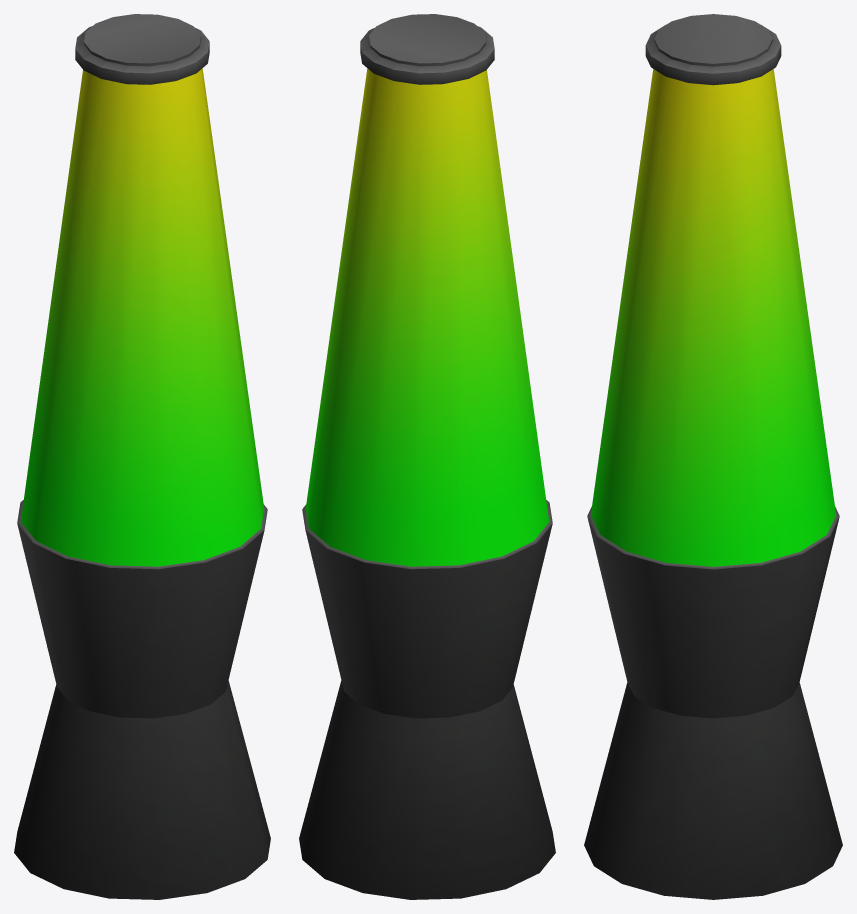
File: lava lamp.FBX
The picture shows the model from 3 angles, left to right: view 1: azimuth 30°, elevation 25°; view 2: azimuth 150°, elevation 25°; view 3: azimuth 270°, elevation 25°; orthographic projection.
Visible parts, largest first — view 1: lava lamp; view 2: lava lamp; view 3: lava lamp.
Boxes of the visible parts, x1,y1,x2,y2 form: lava lamp: (14, 14, 270, 899); lava lamp: (299, 14, 555, 899); lava lamp: (584, 14, 842, 899).
Size of the model in its own units: 16.93 by 58.18 by 16.93.
1 material, 1 textured.
